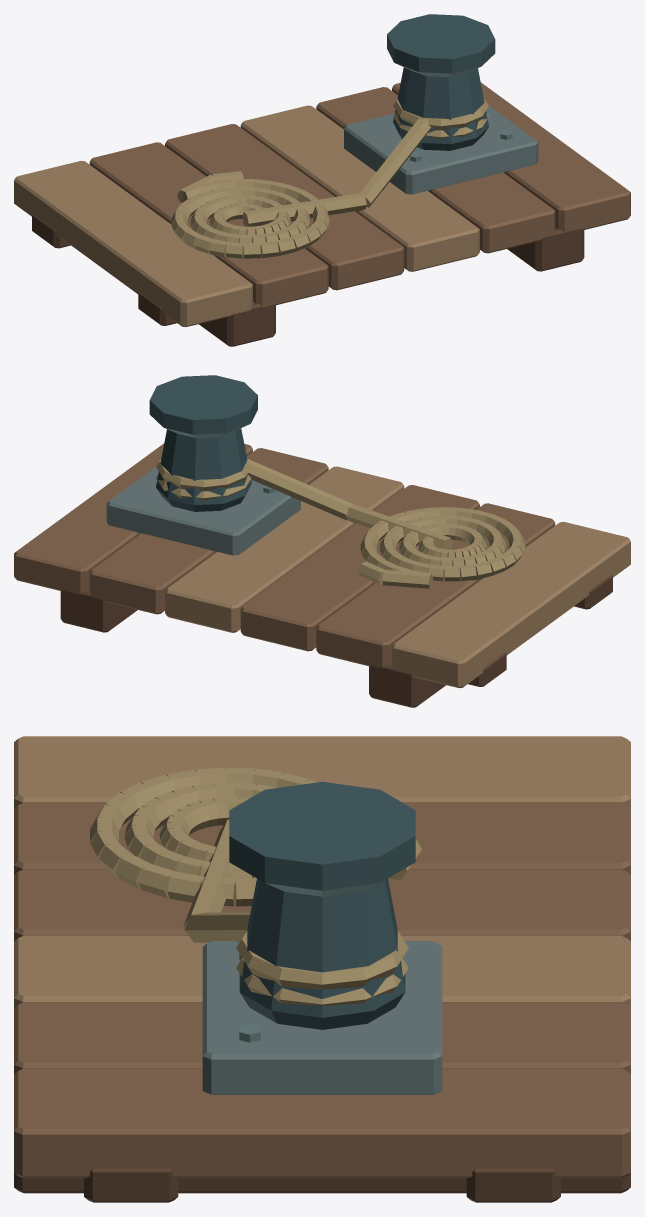
The model's file is mooring-cluster.glb.
3 views of the same model, one above another, from view 1: azimuth 30°, elevation 25°; view 2: azimuth 150°, elevation 25°; view 3: azimuth 270°, elevation 25° (orthographic). The views are drawn at different scales.
Parts seen in each view (by area): view 1: mooring-cluster__body; view 2: mooring-cluster__body; view 3: mooring-cluster__body.
Boxes of the visible parts, x1,y1,x2,y2 form: mooring-cluster__body: (14,14,630,346); mooring-cluster__body: (14,375,630,707); mooring-cluster__body: (14,736,630,1202).
Size of the model in its own units: 1.3 by 0.485 by 0.85.
